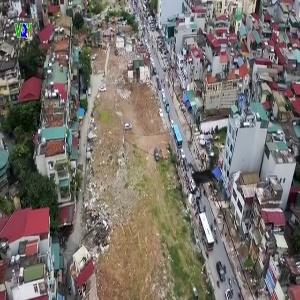drone: (174, 146, 240, 212)
